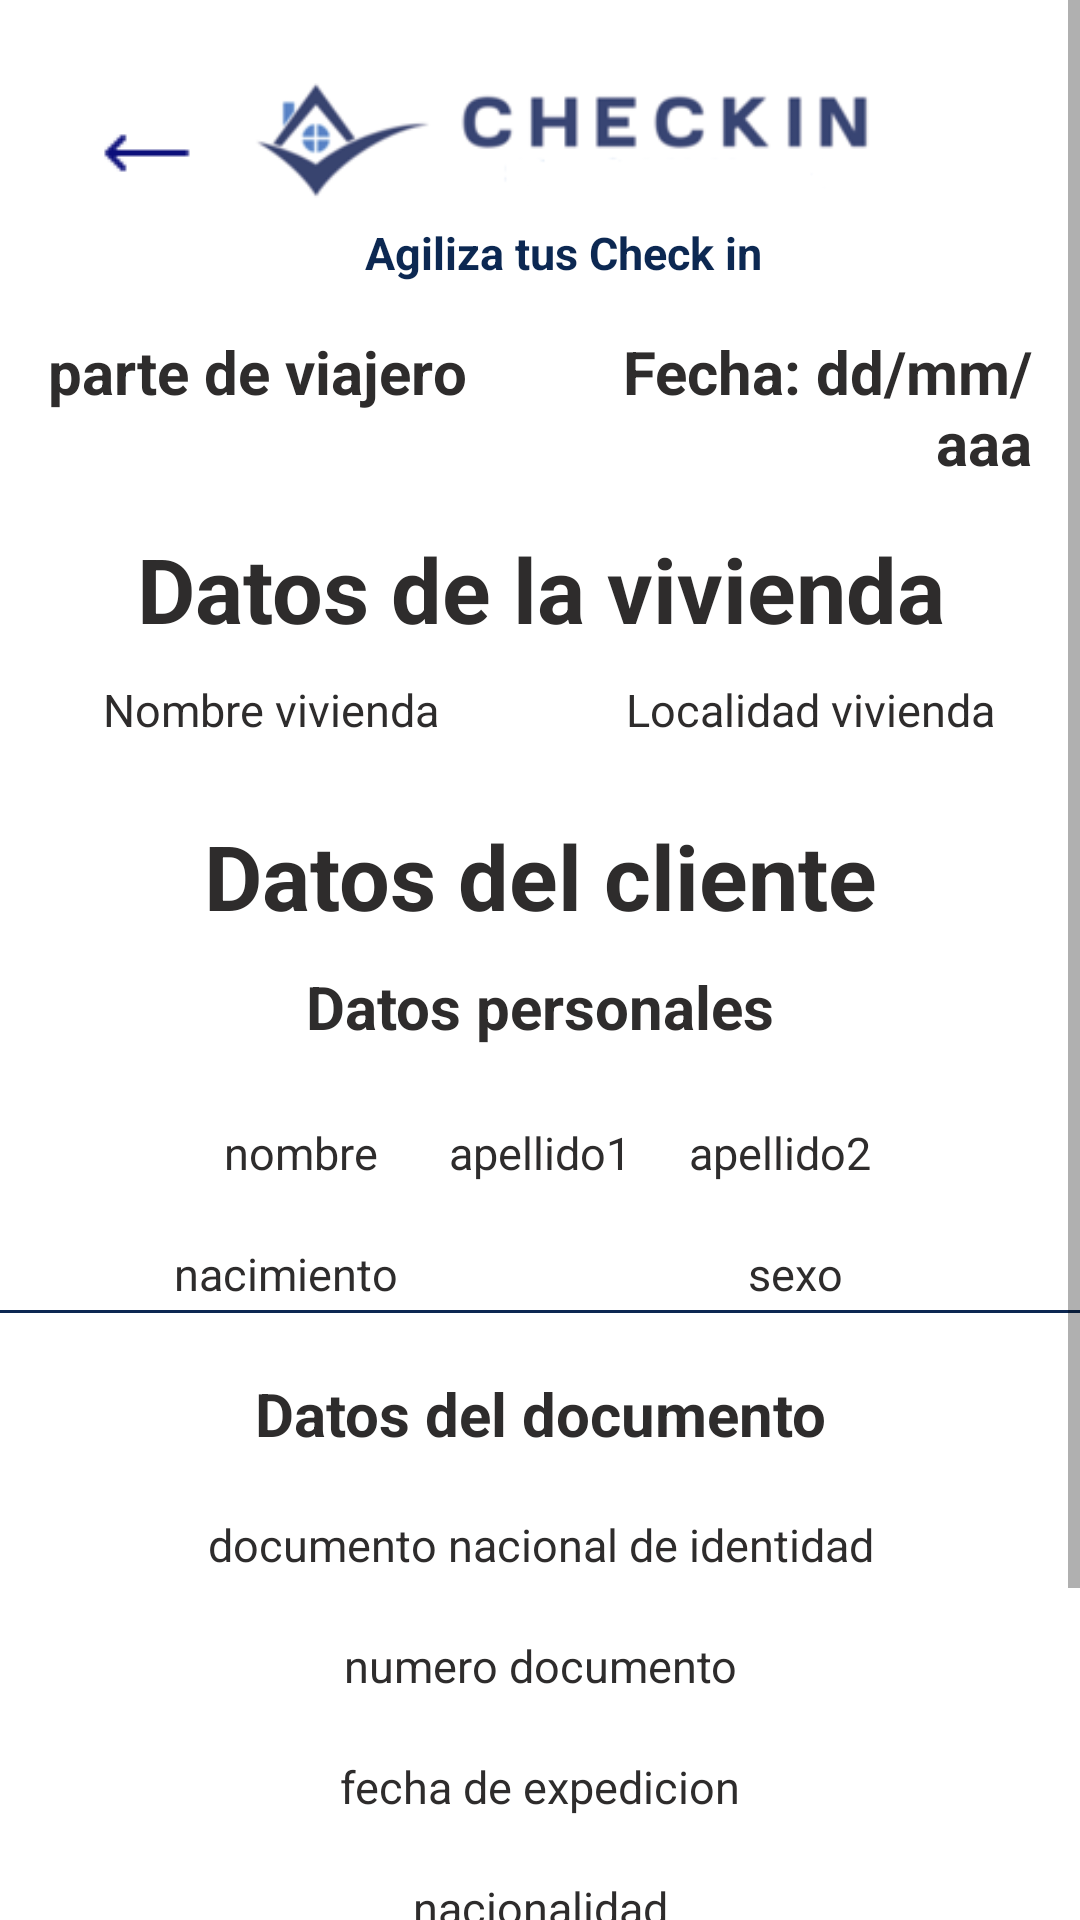

Icons on this 1080 × 1920 Android screen, each with the point to tap as (x=x, y=y):
atras: (x=147, y=153)
